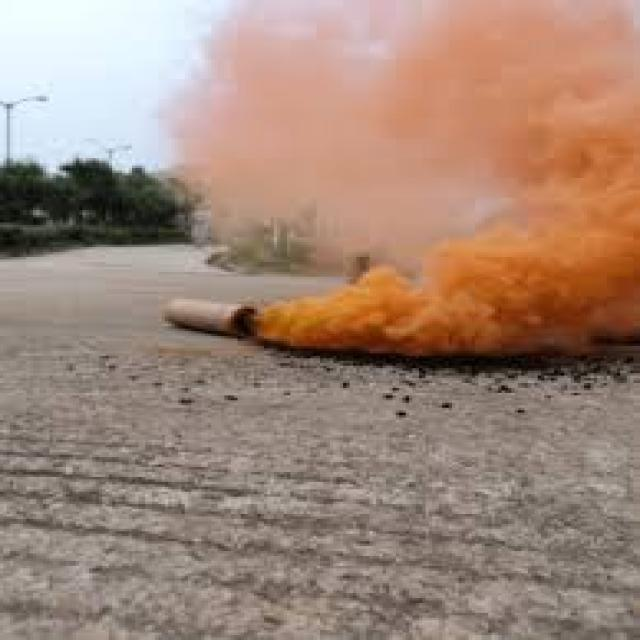Smoke: (159, 0, 640, 357)
